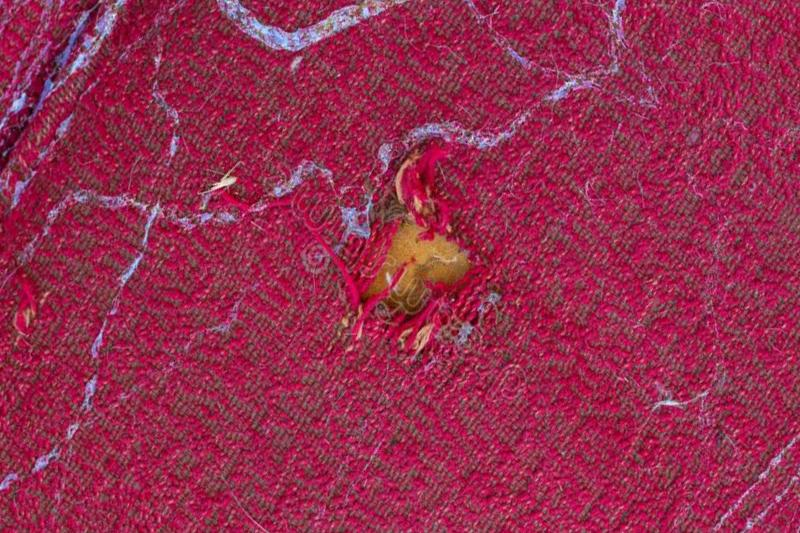hole: (345, 194, 500, 342)
